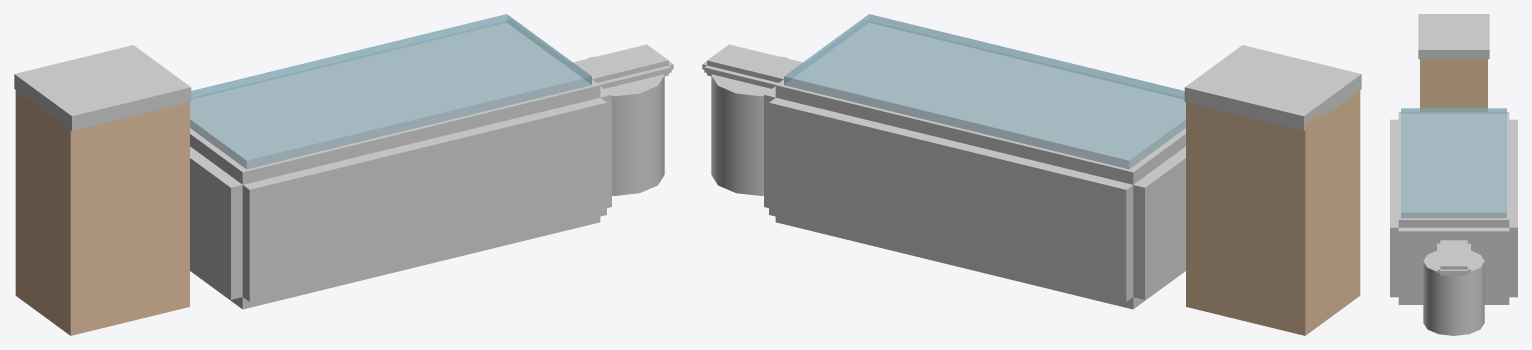
The model's file is bath_set.glb.
The picture shows the model from 3 angles, left to right: view 1: azimuth 30°, elevation 25°; view 2: azimuth 150°, elevation 25°; view 3: azimuth 270°, elevation 25°; orthographic projection. The views are drawn at different scales.
Visible parts, largest first — view 1: bath_set; view 2: bath_set; view 3: bath_set.
Part boxes in pixels (left/top/right/bottom): bath_set: left=14, top=14, right=673, bottom=335; bath_set: left=702, top=14, right=1361, bottom=335; bath_set: left=1390, top=14, right=1517, bottom=335.
Bounding box in the file's own units: 2.6 × 0.885 × 0.75.
